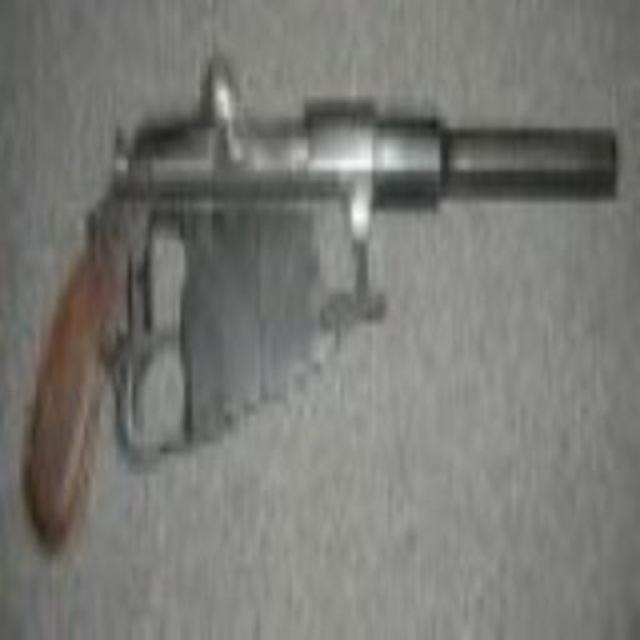pistol: (7, 48, 615, 549)
